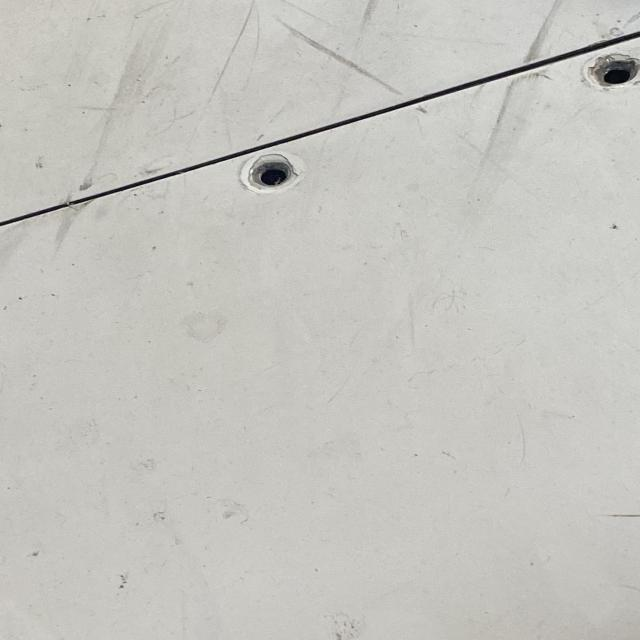Missing-head: (239, 150, 299, 193), (585, 51, 640, 88)
